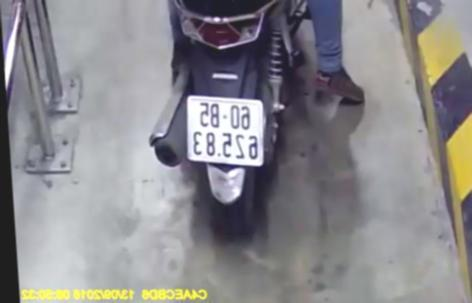License_Plate: (180, 96, 273, 166)
